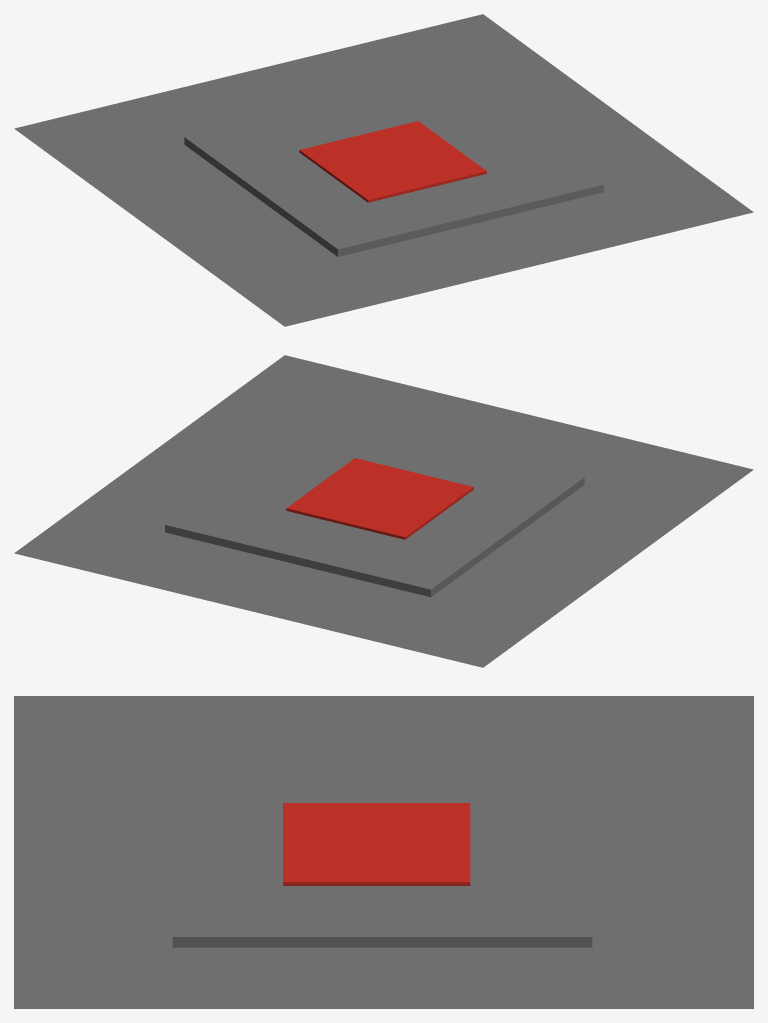
File: Knopf_gedrückt3.fbx
The picture shows the model from 3 angles, top to bottom: view 1: azimuth 30°, elevation 25°; view 2: azimuth 150°, elevation 25°; view 3: azimuth 270°, elevation 25°; orthographic projection. The views are drawn at different scales.
Parts seen in each view (by area): view 1: Cube; view 2: Cube; view 3: Cube.
Part boxes in pixels (bbox=[...]): Cube: bbox=[14, 14, 753, 326]; Cube: bbox=[14, 355, 753, 667]; Cube: bbox=[14, 696, 753, 1008].
Bounding box in the file's own units: 87.5 × 1.84 × 87.5.
